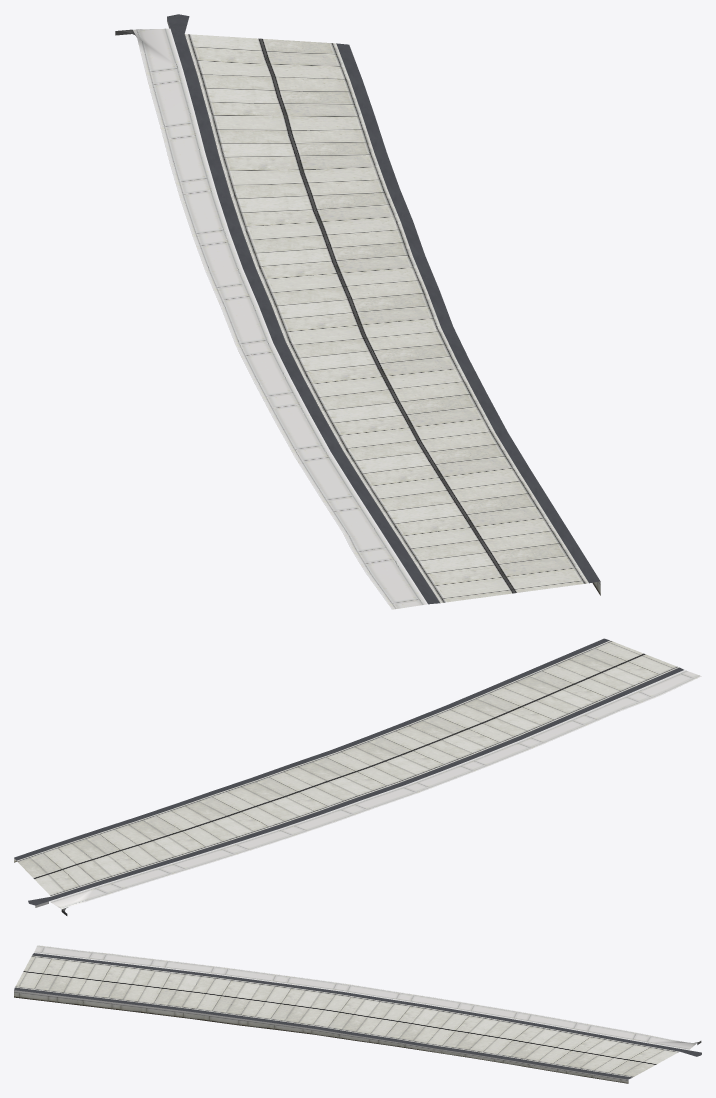
Rendered from STA20_50.FBX.
3 views of the same model, one above another, from view 1: azimuth 30°, elevation 25°; view 2: azimuth 150°, elevation 25°; view 3: azimuth 270°, elevation 25° (orthographic). The views are drawn at different scales.
Parts seen in each view (by area): view 1: STA20_50; view 2: STA20_50; view 3: STA20_50.
Part boxes in pixels (bbox=[...]): STA20_50: bbox=[115, 14, 600, 609]; STA20_50: bbox=[14, 638, 701, 915]; STA20_50: bbox=[14, 945, 701, 1083].
Bounding box in the file's own units: 25.63 × 0.7453 × 55.72.
